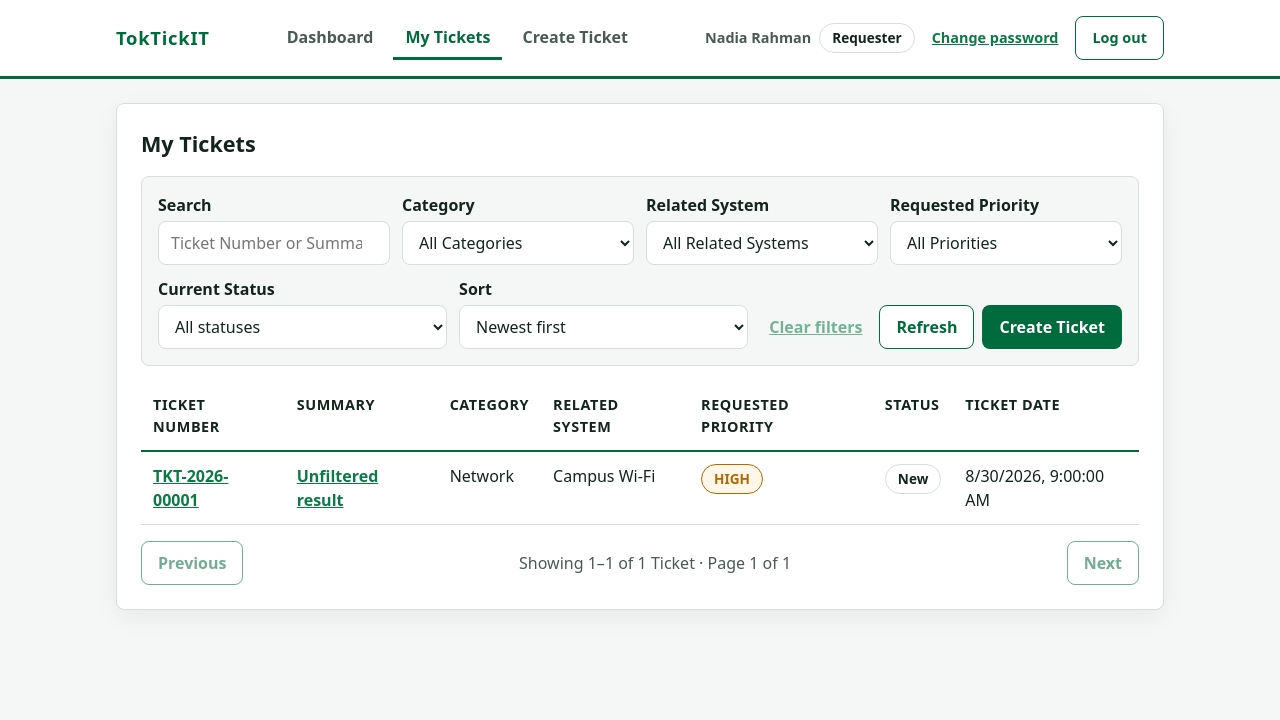
Scenario: My Tickets — each control changes what is displayed › Related System replaces the rows on screen, not just the query
Expected: the heading "My Tickets" is shown, [141,129,256,158]
Expected: the link "Unfiltered result" is shown, [297,465,378,511]
Select "Campus Wi-Fi" in the dropdown labelled "Related System" at (762, 243), box [646,221,878,265]
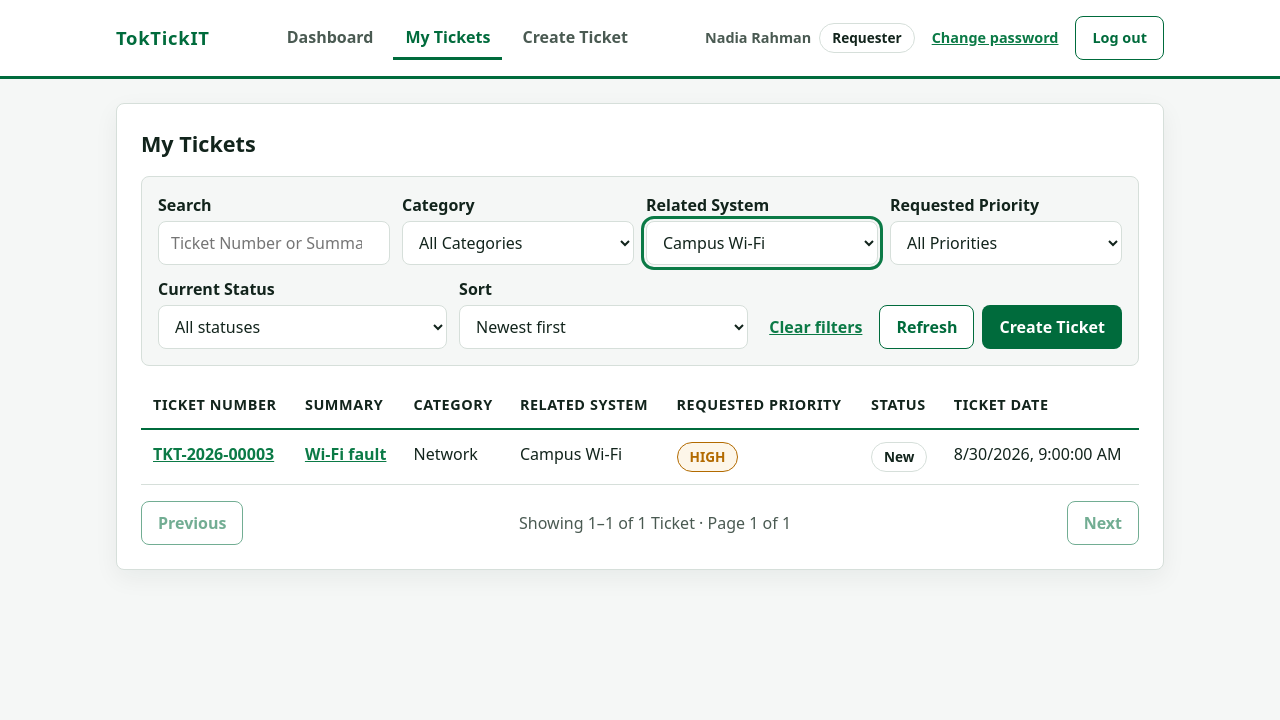
Now the link "Wi-Fi fault" is shown, box [305,443,386,465]
Now the link "Unfiltered result" is gone
